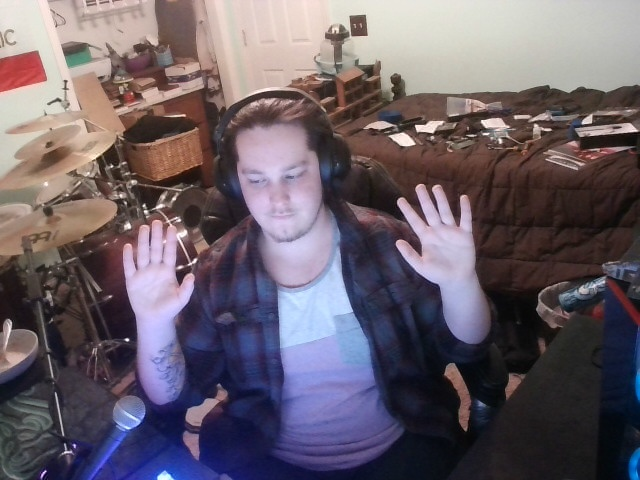great: (84, 177, 488, 332)
